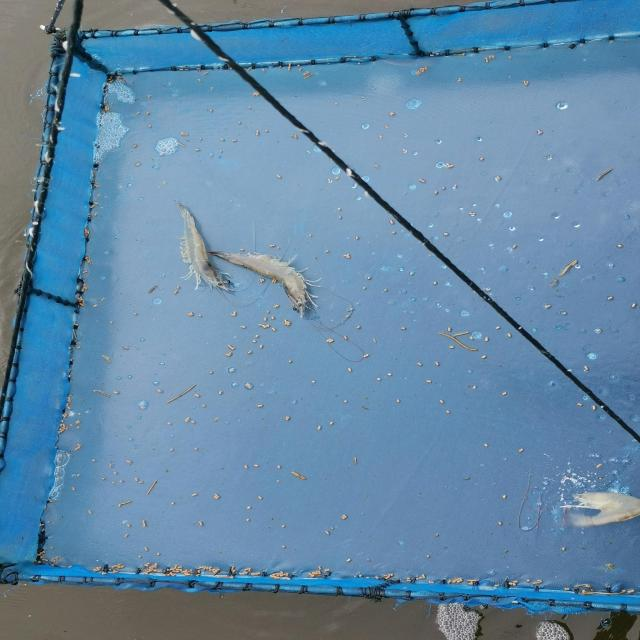Shrimp feeds: (110, 562, 125, 570), (308, 571, 323, 577), (226, 343, 237, 351), (413, 362, 427, 368), (258, 323, 271, 329), (394, 396, 402, 405), (339, 513, 349, 520), (256, 277, 266, 284), (397, 326, 408, 332), (141, 520, 149, 528), (326, 337, 335, 344), (445, 326, 453, 333), (517, 447, 526, 453), (479, 354, 488, 360), (186, 312, 196, 317), (214, 492, 220, 500), (505, 332, 513, 338), (448, 344, 456, 350), (230, 311, 238, 317), (284, 320, 292, 326), (86, 509, 94, 515), (500, 391, 509, 396), (225, 352, 234, 357), (218, 389, 224, 396), (386, 372, 393, 378), (583, 365, 590, 371), (324, 530, 331, 536), (501, 493, 507, 500), (256, 404, 264, 409), (317, 424, 322, 432), (576, 402, 584, 407), (342, 254, 352, 258), (347, 367, 353, 373), (273, 303, 279, 309), (198, 521, 204, 527), (483, 442, 488, 449), (192, 493, 200, 497), (438, 400, 446, 404), (494, 326, 502, 330), (276, 465, 282, 470), (194, 393, 200, 398), (426, 379, 432, 384), (591, 405, 596, 411), (364, 353, 369, 359), (367, 275, 372, 281), (144, 547, 150, 552), (485, 336, 489, 343), (434, 362, 441, 366), (444, 410, 451, 414), (468, 336, 475, 340), (269, 244, 276, 248), (124, 533, 129, 538), (426, 554, 431, 559), (243, 465, 249, 469), (257, 496, 263, 500), (346, 559, 352, 563), (355, 326, 363, 329), (241, 325, 247, 329), (246, 350, 252, 354), (323, 250, 331, 253), (389, 220, 395, 224), (434, 533, 440, 537), (253, 464, 260, 467), (498, 522, 503, 526), (247, 506, 251, 510), (272, 280, 276, 284), (281, 525, 286, 528), (126, 524, 131, 527), (393, 230, 395, 235)
